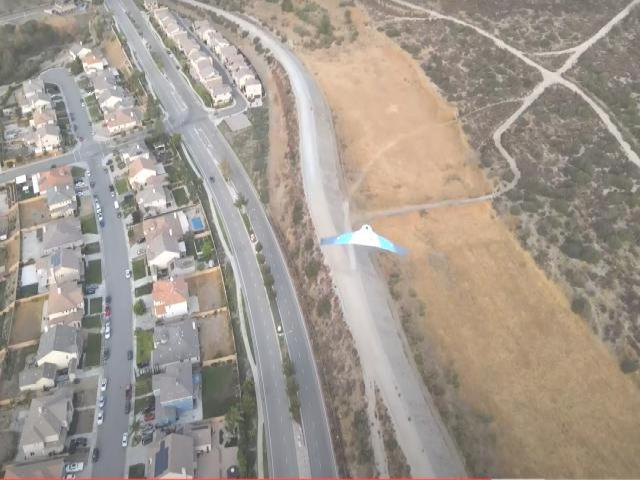iha: (321, 222, 405, 258)
